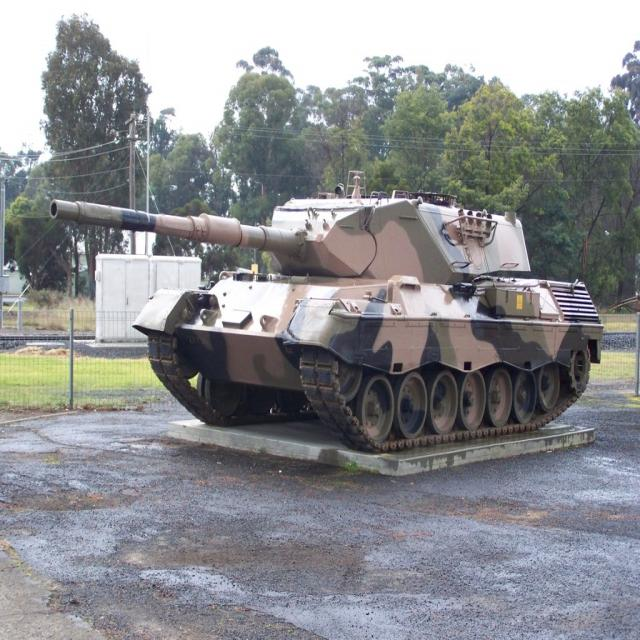tank: (50, 165, 604, 455)
